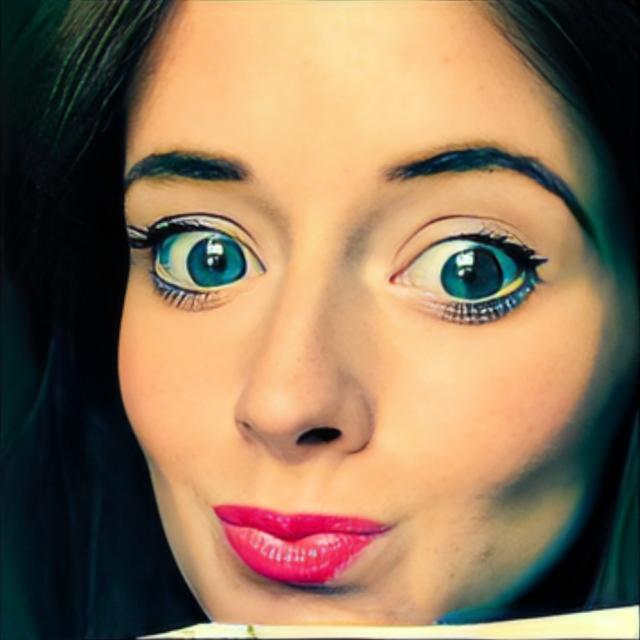surprise: (113, 0, 640, 626)
